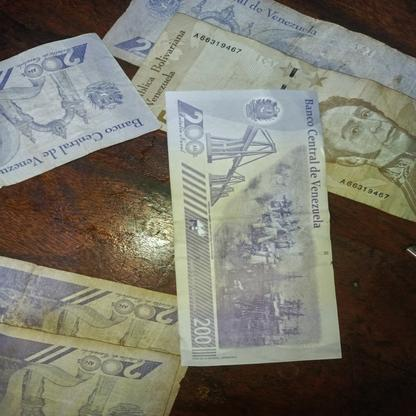five-front-vef: (110, 13, 416, 222)
ten-back-vef: (96, 0, 416, 148), (0, 254, 206, 392), (2, 31, 162, 193), (0, 323, 181, 416)
two_hundred-back-vef: (162, 90, 343, 366)
